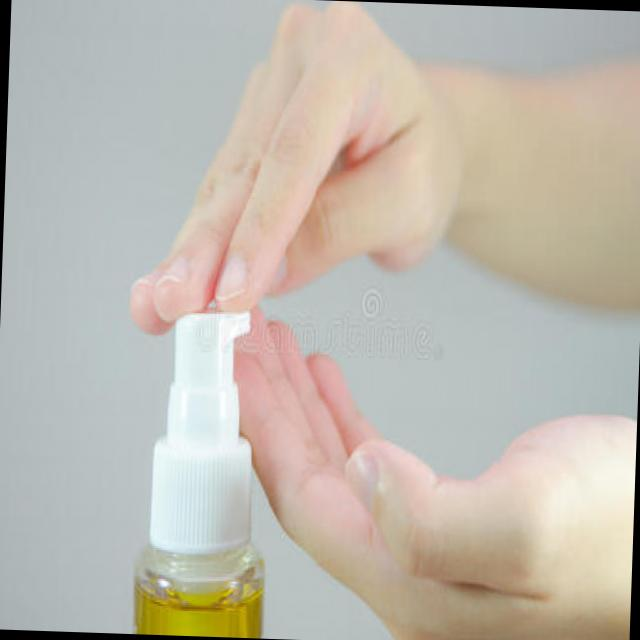sanitizer: (138, 307, 276, 632)
